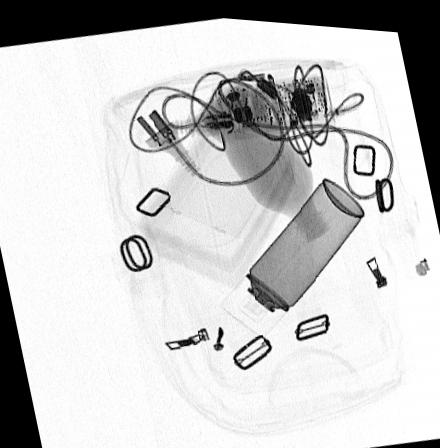Sprayer: (218, 172, 364, 332)
